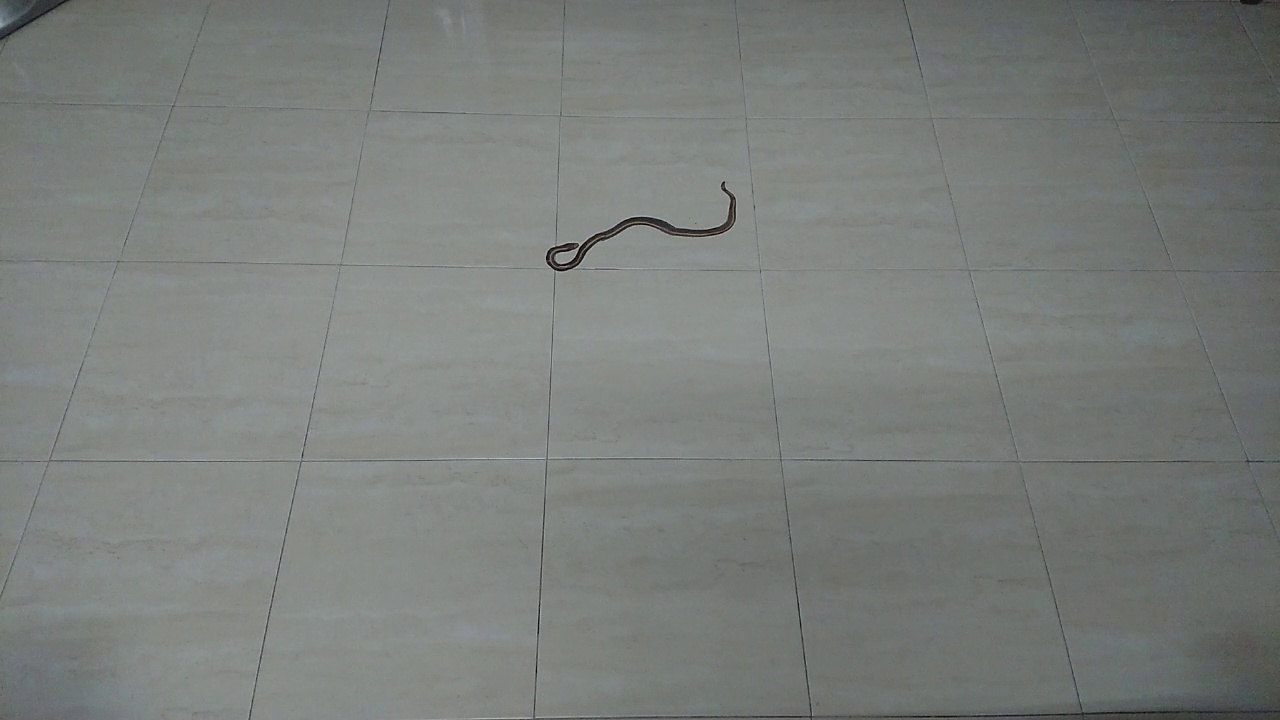snake: (527, 166, 752, 283)
